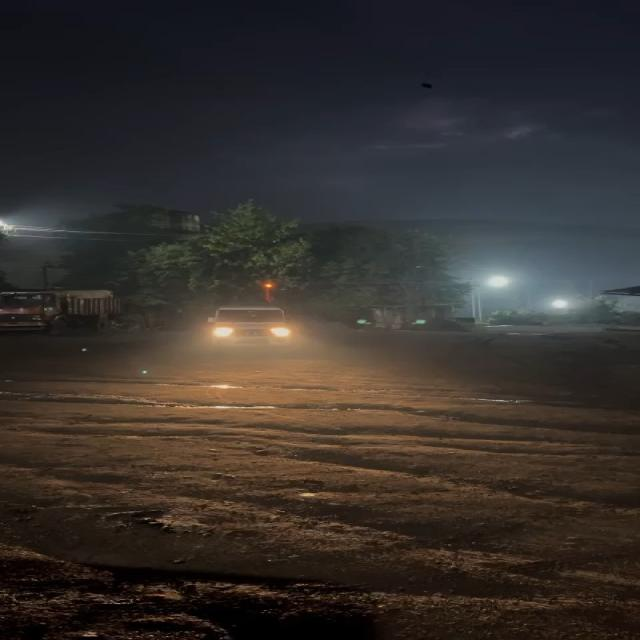light_vehicle: (211, 307, 294, 348)
